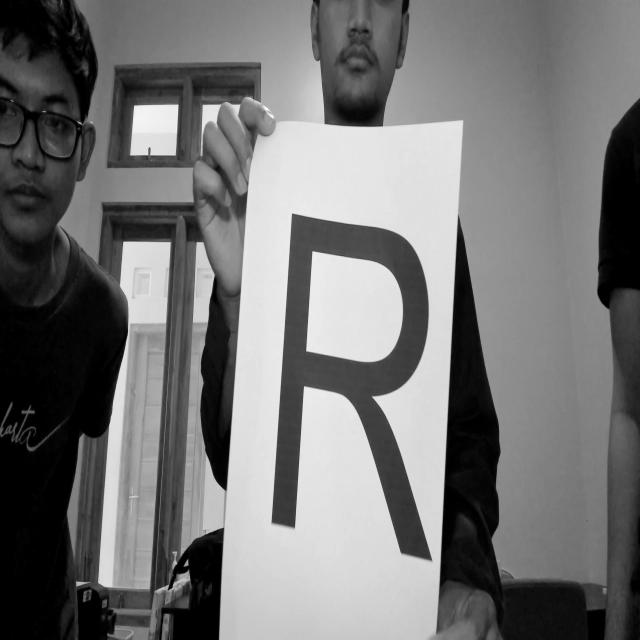r: (262, 179, 448, 576)
